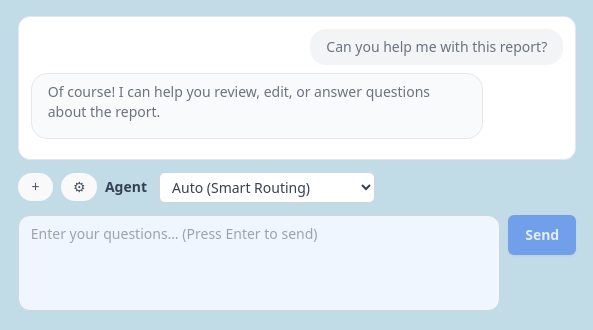
Scenario: ChatPanel 组件 / ChatPanel Component › 错误处理测试 / Error Handling Tests › API 错误时应显示错误消息 / should show error message on API error
In the text box with placeholder "Enter your questions… (Press Enter to send)": (259, 262) x1=18 y1=214 x2=500 y2=310, type "Test"
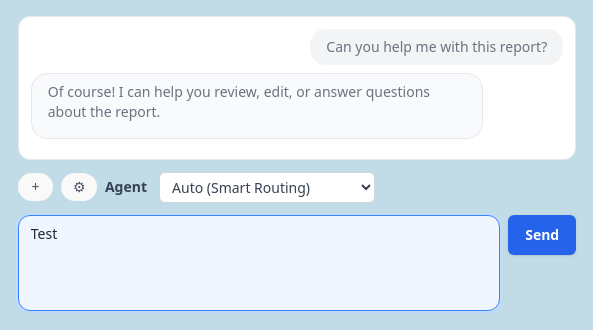
Click the button "Send": (542, 234) x1=508 y1=214 x2=576 y2=254
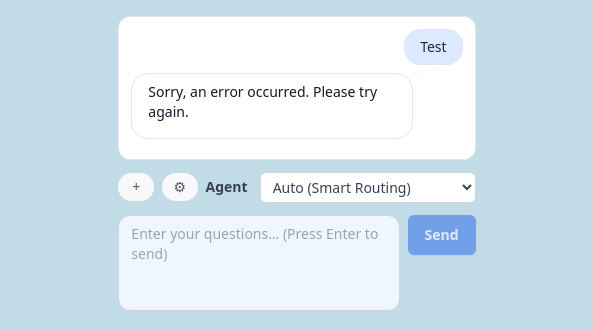
Result: the text "Sorry, an error occurred. Please try again." is shown at x1=148 y1=82 x2=396 y2=122
